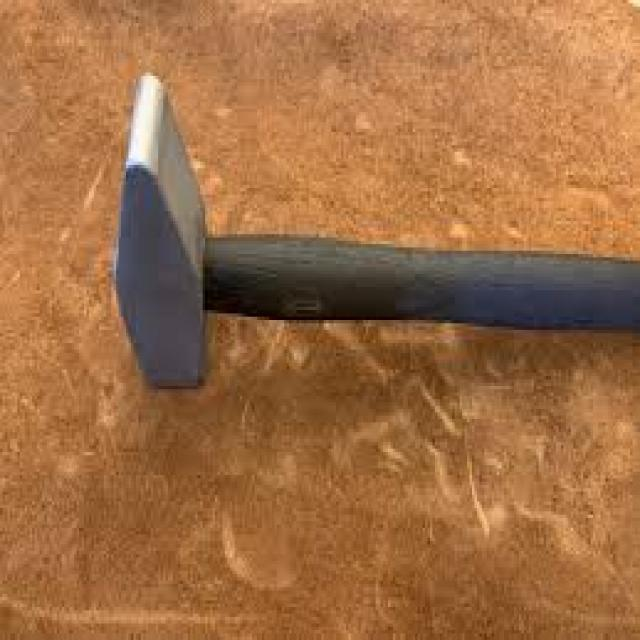hammer: (106, 66, 640, 399)
